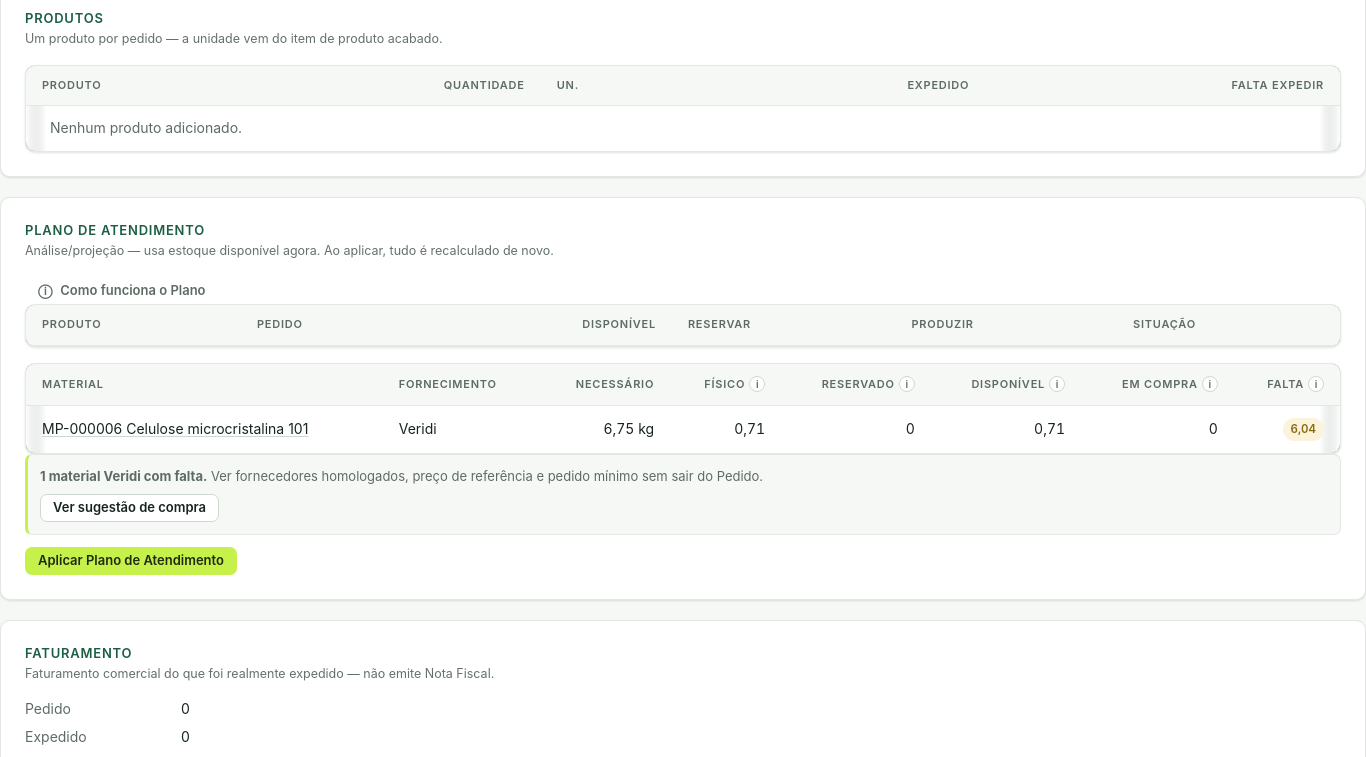
Test: Plano de Atendimento › o ⓘ de Disponível diz que reserva já está descontada
(page scrolled)
Expected: the link "MP-000006 Celulose microcristalina 101" is shown, [42,420,308,437]
Click the 3rd button "i": [1057, 384] box [1049,376,1065,392]
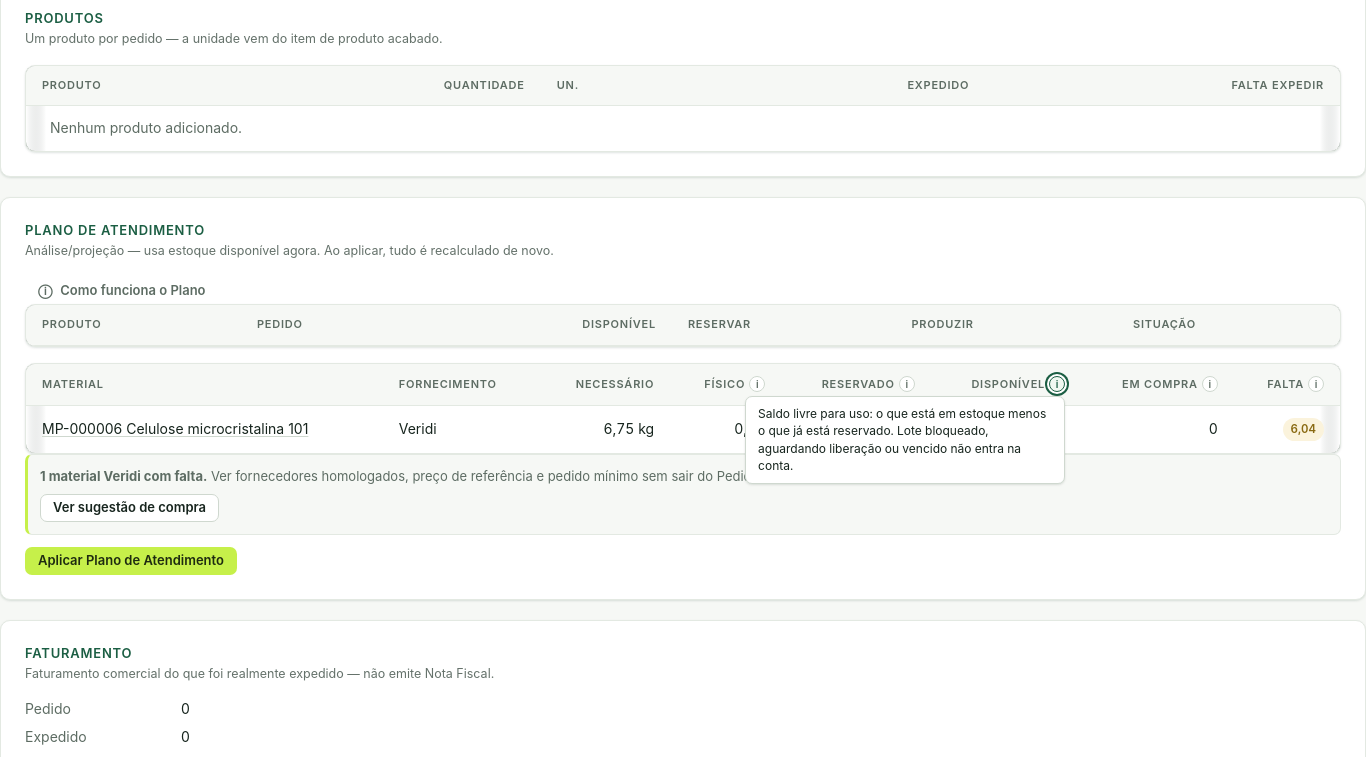
Now the text "Saldo livre para uso: o que está em estoque menos o que já está reservado. Lote bloqueado, aguardando liberação ou venci" is shown, box [758,406,1046,473]
